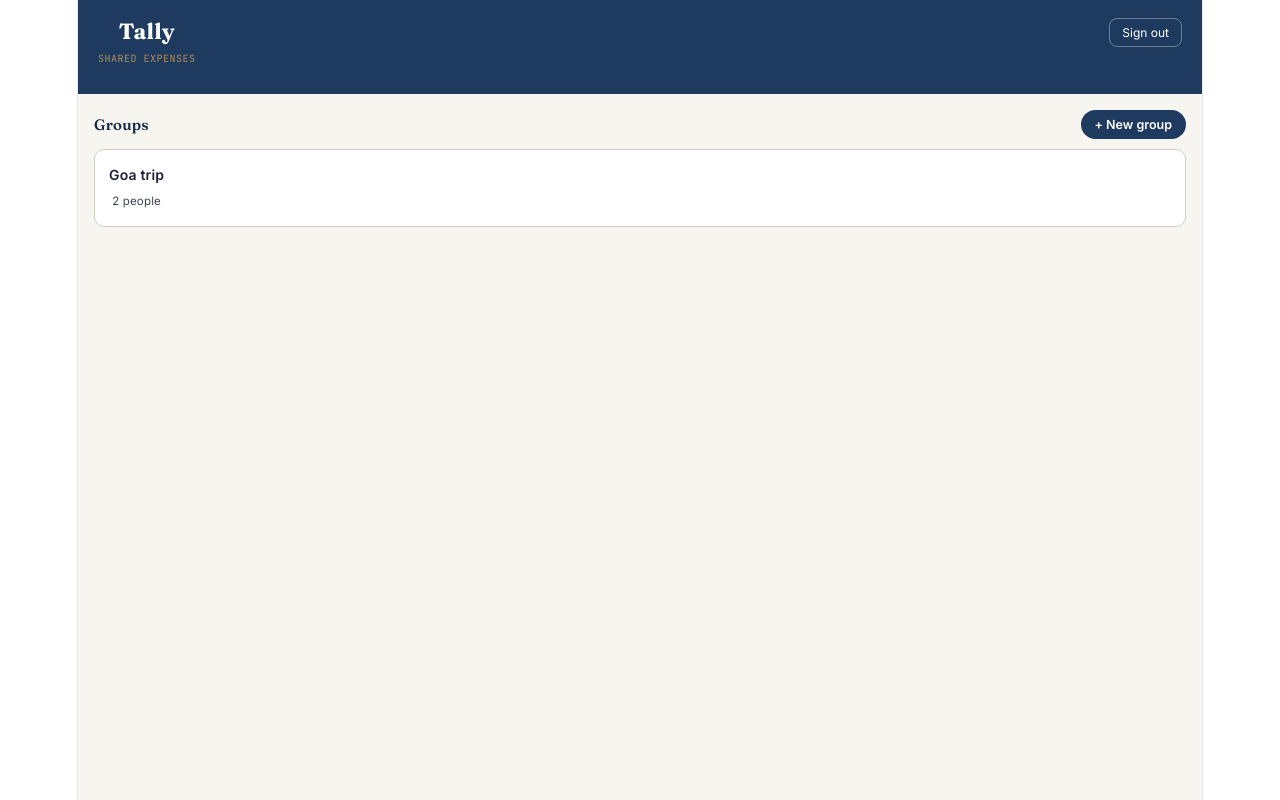
Group detail › navigates into a group and shows members + expenses with no crash
Click the text "Goa trip": (137, 175) [109,162,164,188]
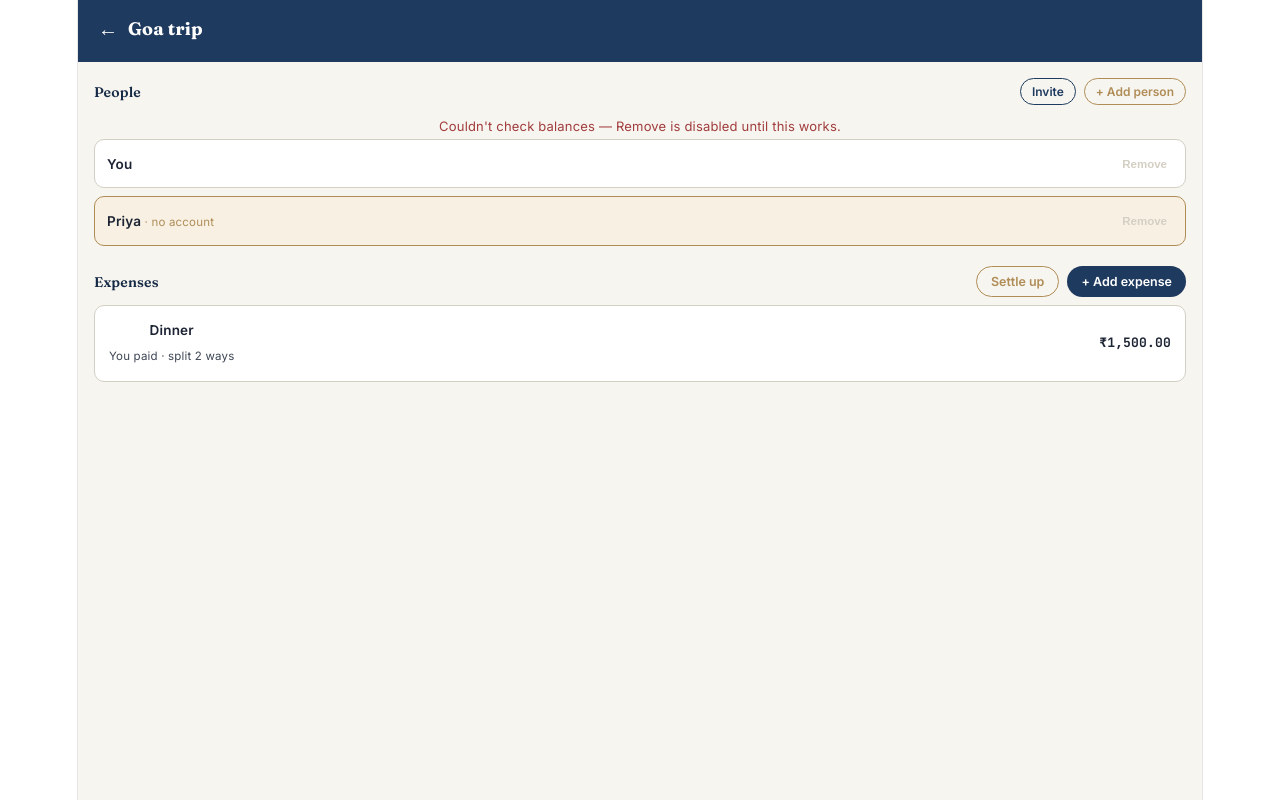
Check: the text "Priya" is shown, box [107,213,141,229]
Check: the text "You" is shown, box [107,156,132,172]
Check: the text "· no account" is shown, box [141,215,214,229]
